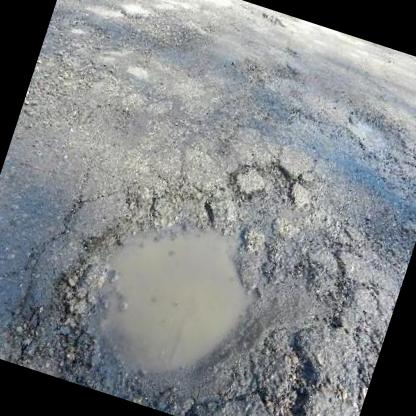pothole: (26, 145, 368, 416), (252, 155, 308, 207)
